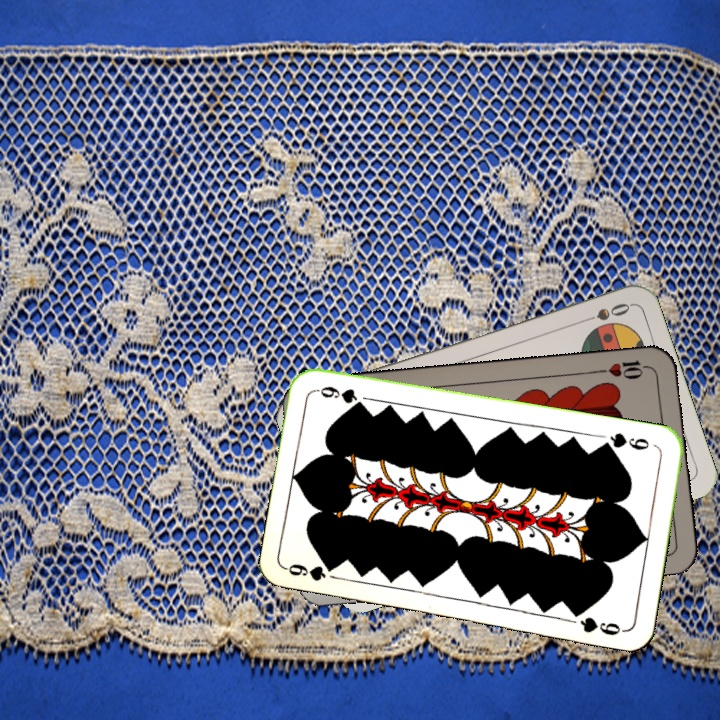G9: (598, 429, 652, 453), (283, 559, 329, 584)
H10: (594, 356, 654, 382)
SO: (575, 298, 633, 327)
